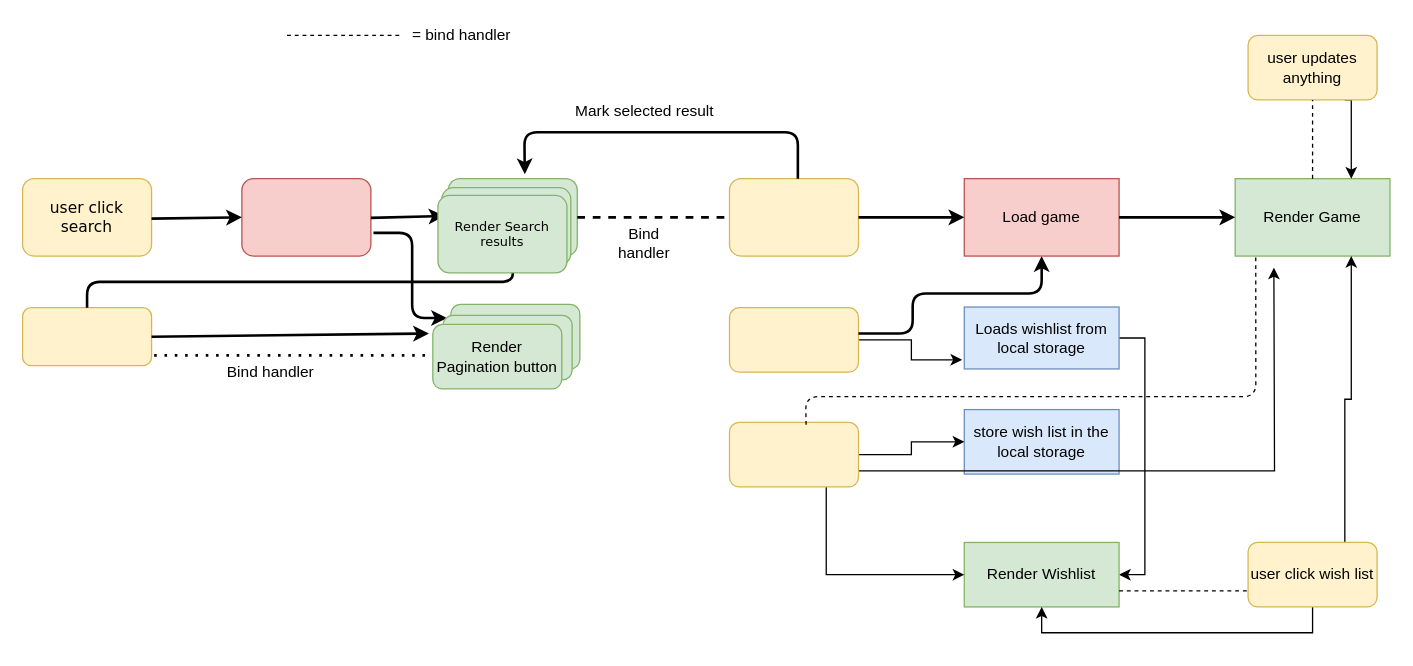
This 1413x666 diagram has some shape labels left out. The box of each missing label's shape, as (x1, y1, x2, y2) in pixels:
Load search result: (241, 177, 371, 256)
Page loads with game id: (728, 306, 858, 372)
user adds game to the wish list: (728, 421, 858, 487)
User clicks Pagination: (21, 306, 152, 366)
user selects game: (728, 177, 858, 256)
